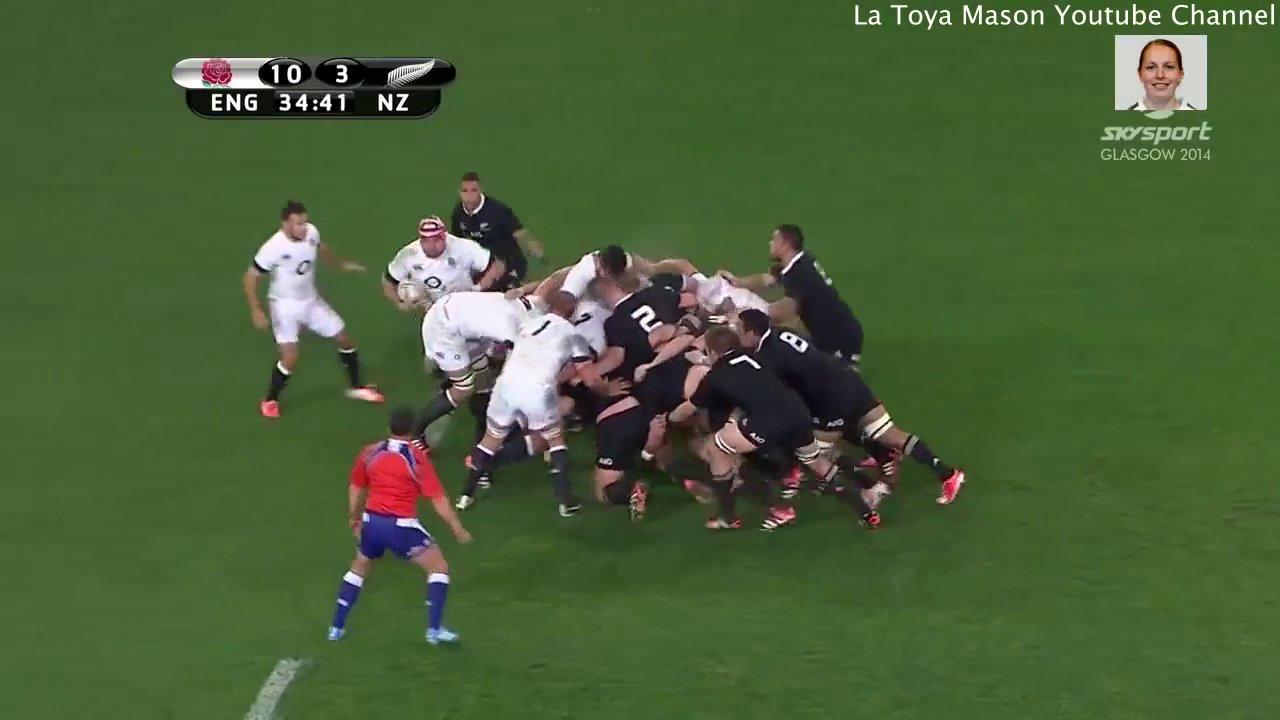ball: (388, 273, 434, 318)
player: (735, 307, 964, 508), (685, 328, 870, 537), (321, 408, 467, 651), (234, 196, 383, 416), (455, 296, 588, 512), (753, 223, 859, 349), (409, 290, 513, 412), (373, 216, 513, 295), (441, 170, 545, 273), (593, 280, 676, 352)
scrum: (486, 272, 967, 536)
